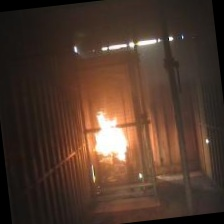fire: (87, 95, 131, 163)
